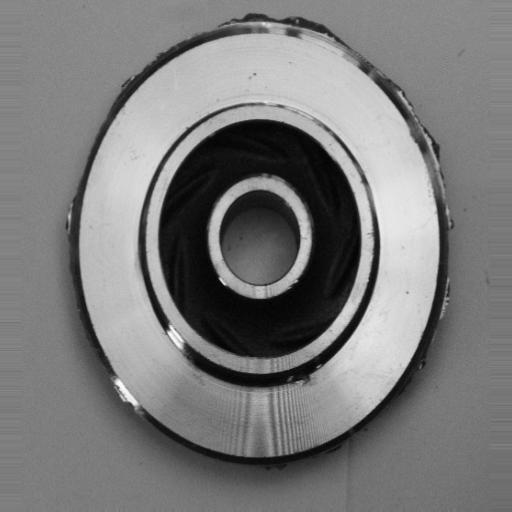casting_with_burr: (60, 10, 456, 471)
crack: (282, 360, 329, 397)
scratch: (259, 91, 333, 127), (160, 304, 201, 360)
